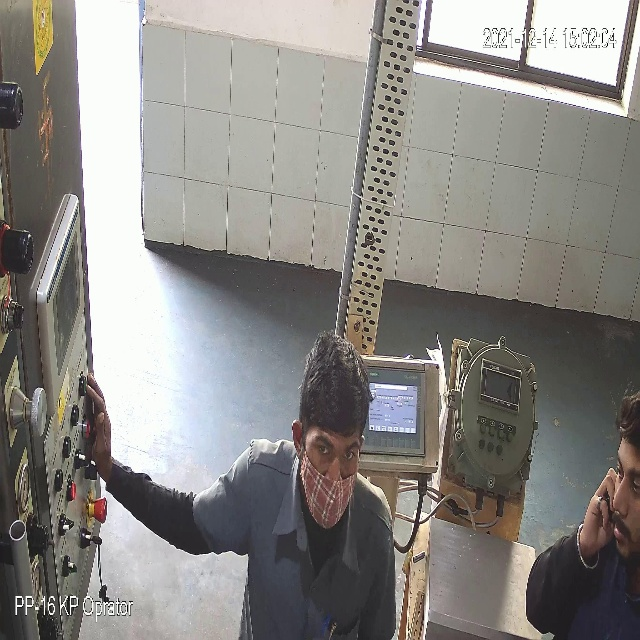Sin_gafas: (310, 440, 366, 480), (613, 459, 640, 493)
Sin_mascara: (610, 490, 638, 555)
